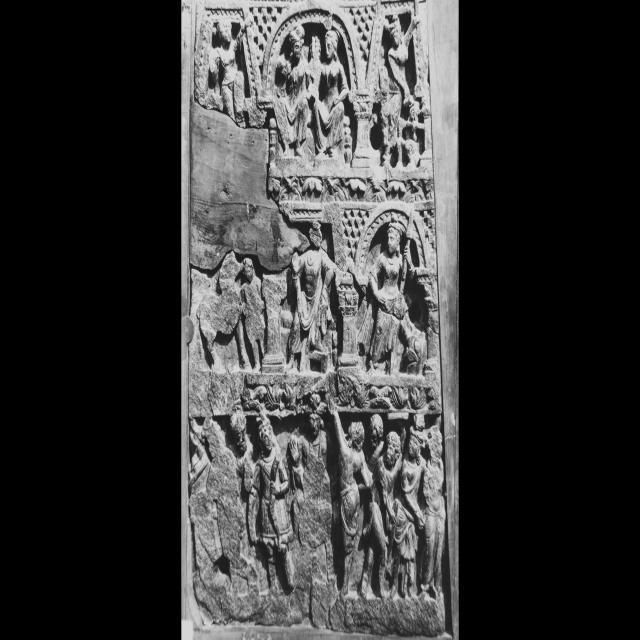buddha-sitting: (289, 220, 336, 371)
